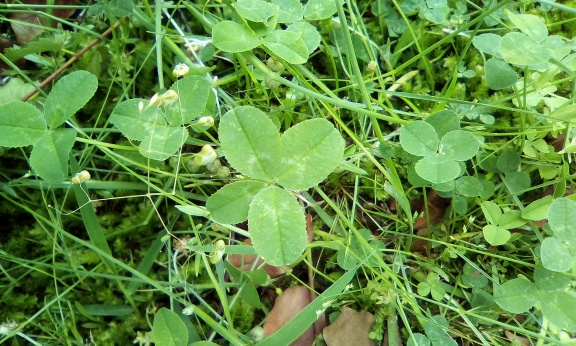4leaf: (205, 105, 345, 267)
